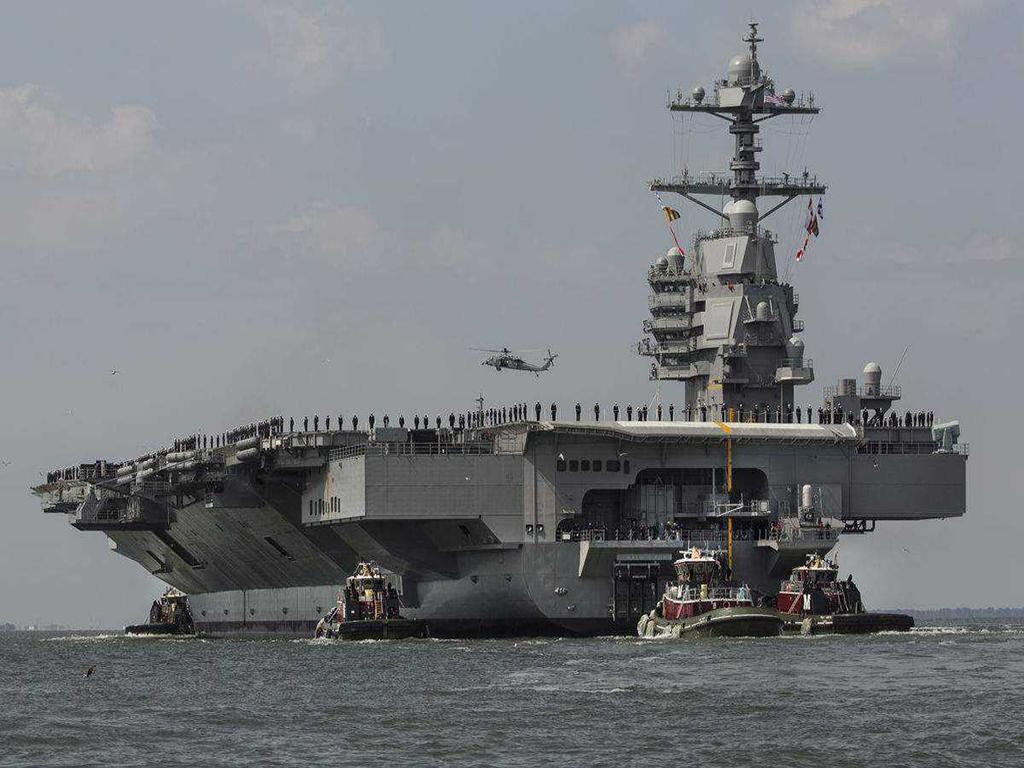Warship: (22, 17, 978, 645)
